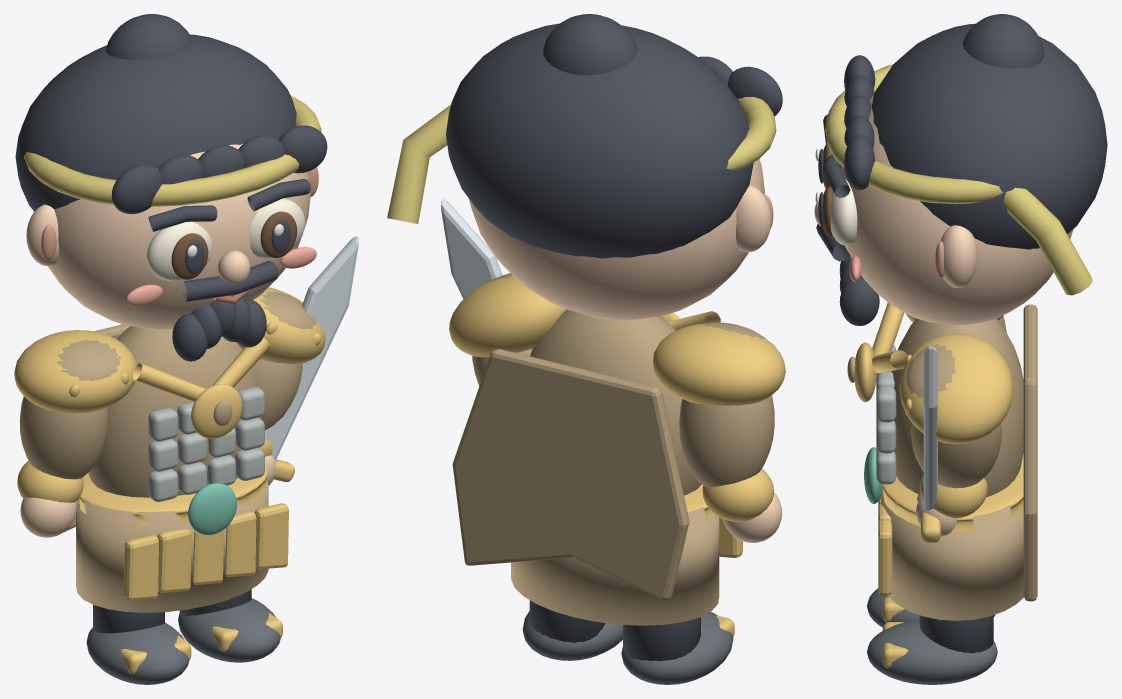
File: bandit_deputy.fbx
3 renders of one model, left to right at view 1: azimuth 30°, elevation 25°; view 2: azimuth 150°, elevation 25°; view 3: azimuth 270°, elevation 25°, orthographic. The views are drawn at different scales.
Parts seen in each view (by area): view 1: hair_mass, face, body, robe_skirt, headband, shoulder_gold.001, sleeve.001, dao_blade, boot, boot.001, hair_bun, belt (+49 smaller); view 2: hair_mass, cape, face, robe_skirt, shoulder_gold.001, body, sleeve.001, shoulder_gold, hair_bun, headband_tail, boot, dao_blade (+9 smaller); view 3: hair_mass, face, robe_skirt, shoulder_gold, body, boot.001, headband, cape, headband_tail, hair_bun, sleeve, belt (+25 smaller).
Boxes of the visible parts, bbox=[...] form: hair_mass: bbox=[15, 34, 296, 211]; face: bbox=[33, 144, 310, 329]; body: bbox=[88, 326, 260, 497]; robe_skirt: bbox=[76, 476, 268, 612]; headband: bbox=[24, 95, 321, 206]; shoulder_gold.001: bbox=[14, 330, 136, 413]; sleeve.001: bbox=[19, 396, 107, 479]; dao_blade: bbox=[265, 236, 358, 459]; boot: bbox=[86, 622, 189, 684]; boot.001: bbox=[178, 598, 280, 662]; hair_bun: bbox=[105, 14, 192, 59]; belt: bbox=[76, 463, 268, 525]; hair_mass: bbox=[446, 23, 753, 258]; cape: bbox=[452, 349, 689, 600]; face: bbox=[468, 159, 764, 320]; robe_skirt: bbox=[511, 506, 719, 625]; shoulder_gold.001: bbox=[653, 323, 785, 405]; body: bbox=[530, 309, 701, 495]; sleeve.001: bbox=[679, 395, 774, 487]; shoulder_gold: bbox=[449, 276, 566, 357]; hair_bun: bbox=[543, 14, 637, 75]; headband_tail: bbox=[387, 104, 450, 223]; boot: bbox=[621, 612, 733, 684]; dao_blade: bbox=[441, 199, 502, 298]; hair_mass: bbox=[871, 23, 1107, 249]; face: bbox=[840, 93, 1073, 325]; robe_skirt: bbox=[880, 484, 1023, 620]; shoulder_gold: bbox=[899, 333, 1013, 444]; body: bbox=[891, 318, 1023, 497]; boot.001: bbox=[867, 620, 997, 684]; headband: bbox=[825, 64, 1002, 204]; cape: bbox=[1023, 304, 1037, 601]; headband_tail: bbox=[1003, 187, 1092, 295]; hair_bun: bbox=[963, 14, 1044, 68]; sleeve: bbox=[911, 423, 1001, 488]; belt: bbox=[882, 453, 1023, 531].
Size of the model in its own units: 1.35 by 2.46 by 1.03.
